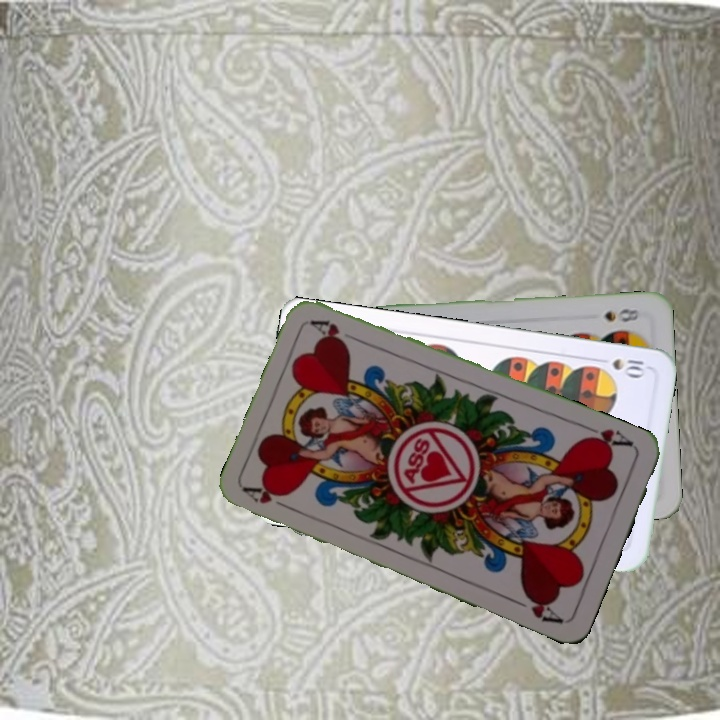HA: (578, 421, 637, 453), (241, 482, 298, 514)
S10: (592, 354, 651, 380)
S8: (600, 305, 642, 325)
